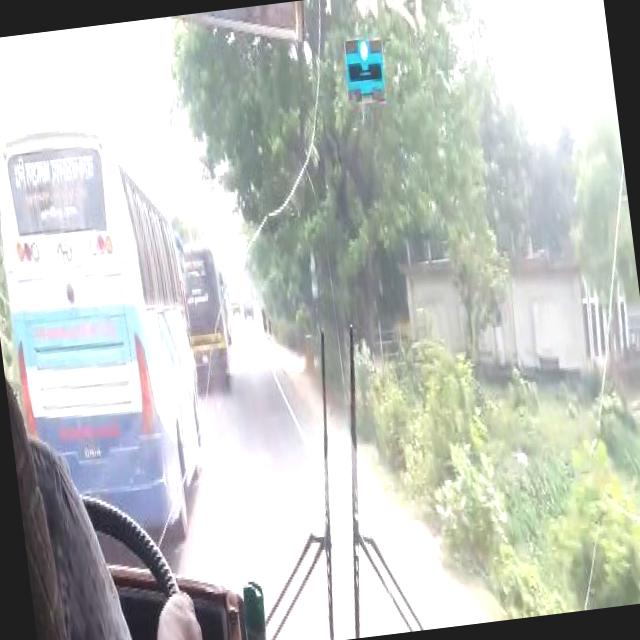bus: (0, 105, 212, 545), (178, 240, 235, 384)
truck: (238, 274, 256, 316), (228, 270, 242, 308)
